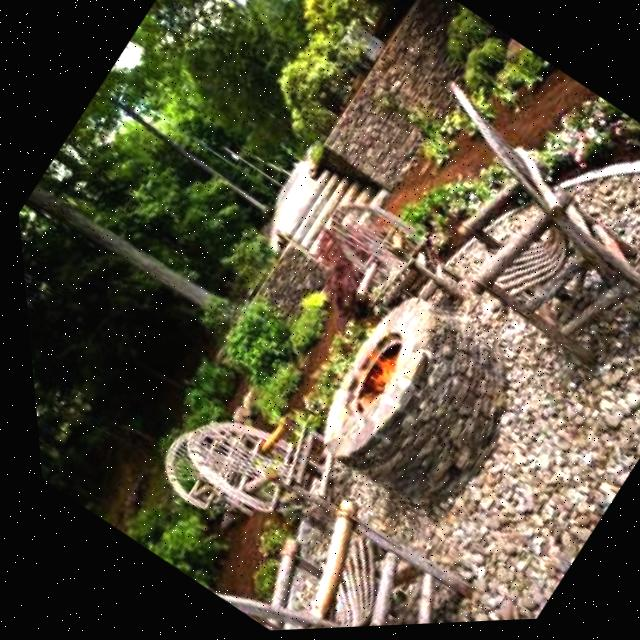Fire: (325, 333, 405, 407)
